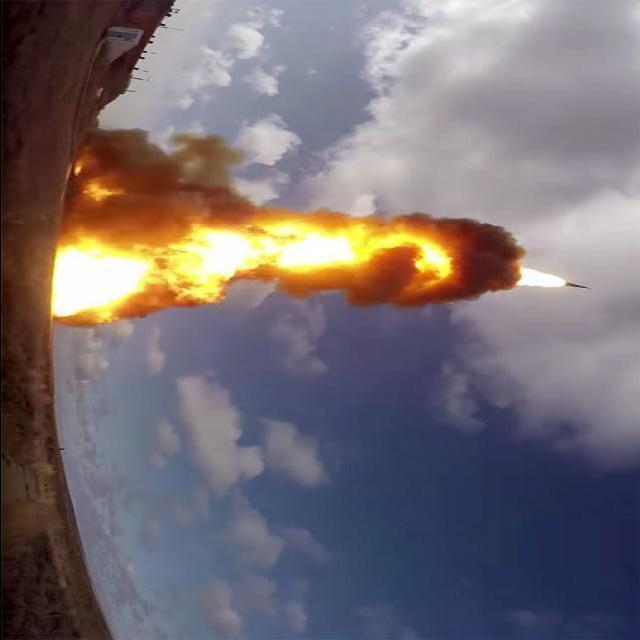missile: (567, 282, 594, 293)
